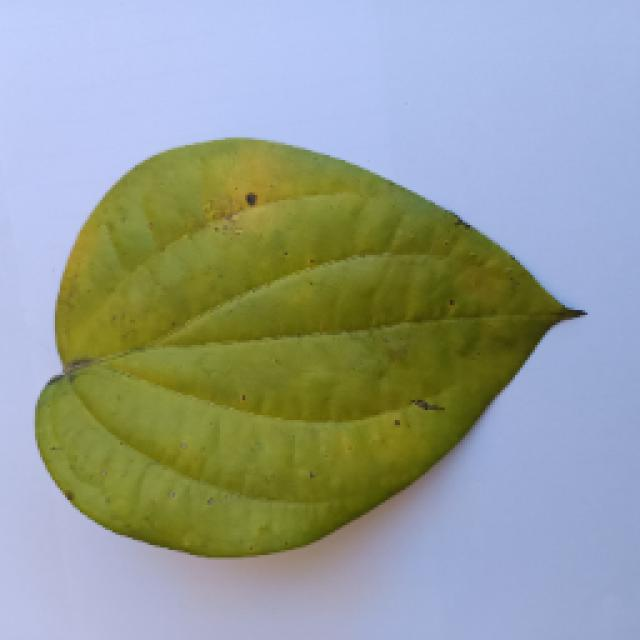slow-decline: (22, 148, 582, 570)
